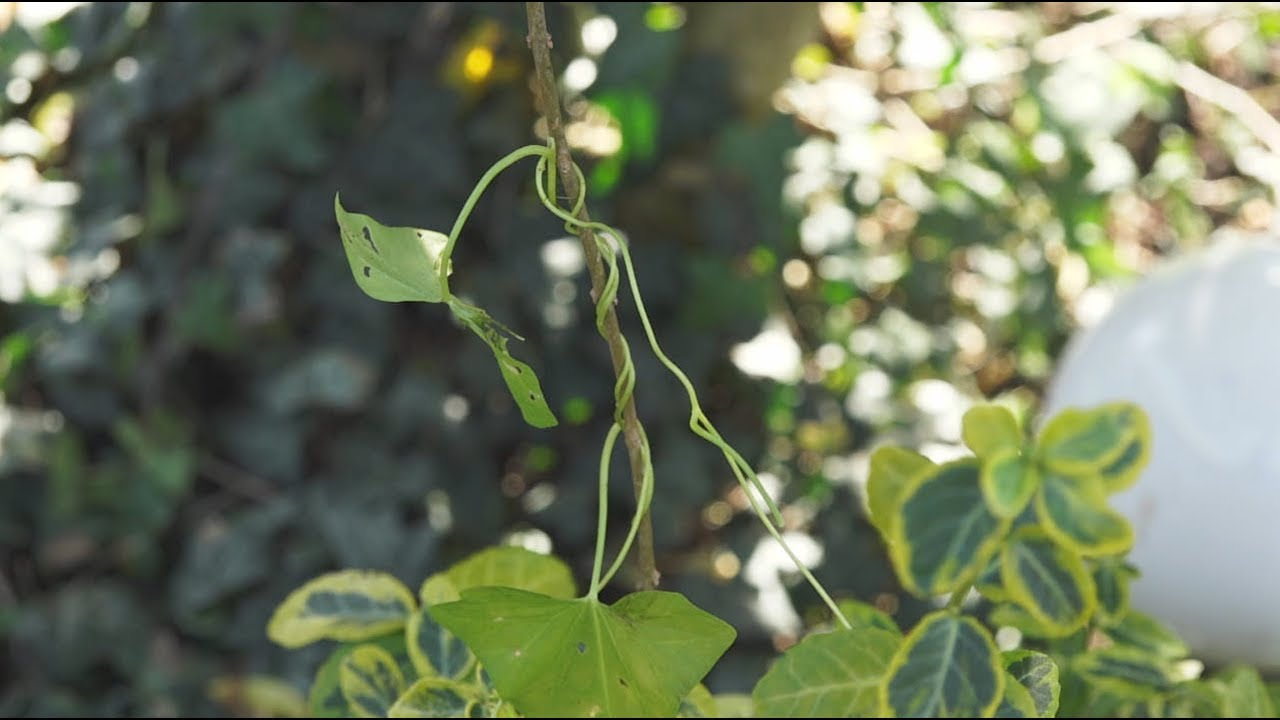haagwinde: (329, 65, 753, 720)
